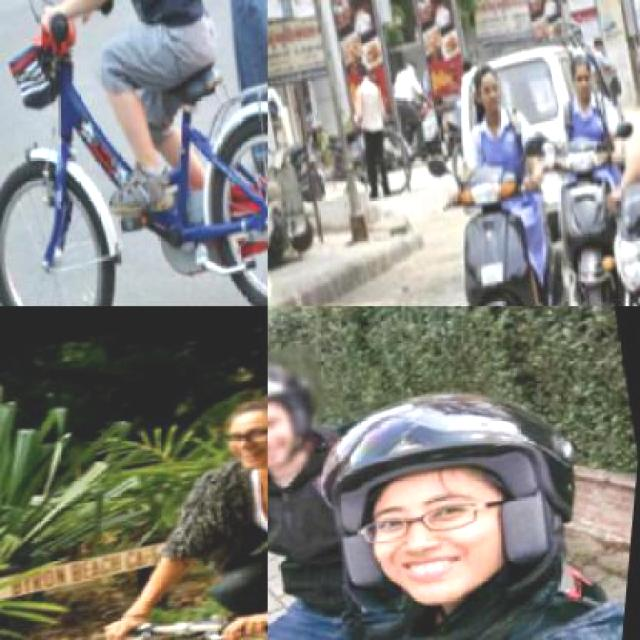With Helmet: (302, 351, 615, 629), (268, 332, 350, 494)
Without Helmet: (202, 375, 266, 477), (463, 40, 519, 114), (562, 32, 608, 98)
